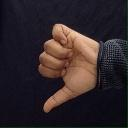hand: (37, 22, 99, 113)
